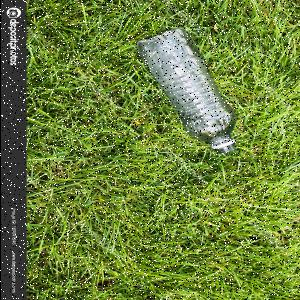Plastic-bottle: (136, 28, 239, 156)
